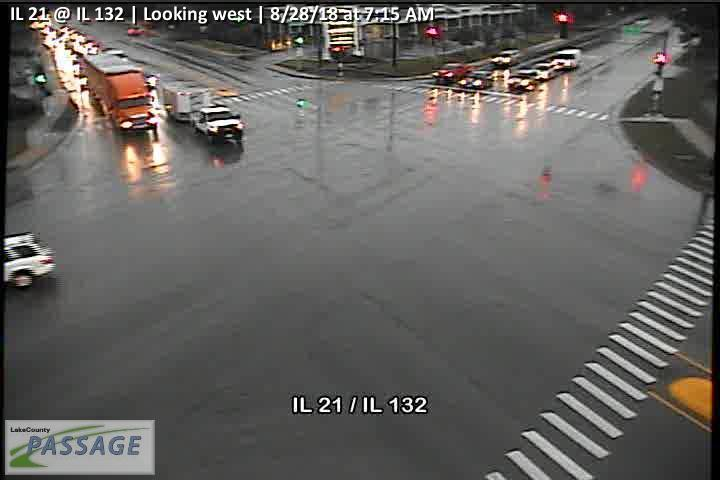SUV: (431, 61, 467, 84), (508, 67, 539, 92), (552, 48, 581, 70), (490, 48, 520, 67)
Sedan: (458, 69, 495, 90), (529, 62, 560, 82)
Truck: (157, 78, 245, 144), (86, 54, 158, 134)
